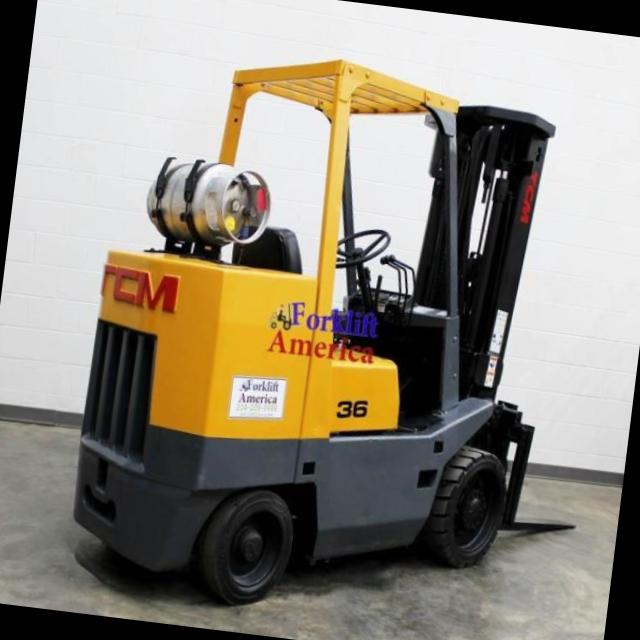forklift: (58, 7, 579, 640)
